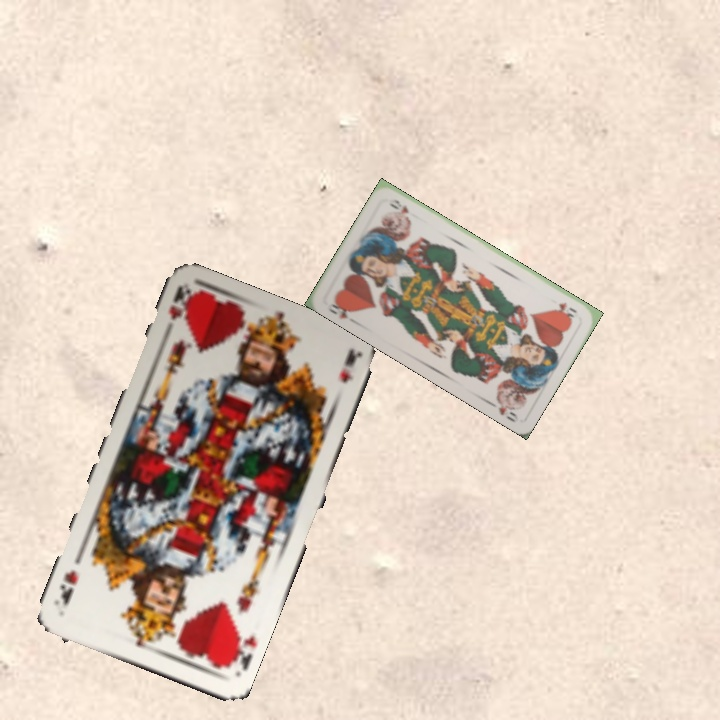HK: (158, 284, 197, 342), (221, 627, 259, 673)
HO: (324, 295, 359, 326), (554, 298, 580, 320)
